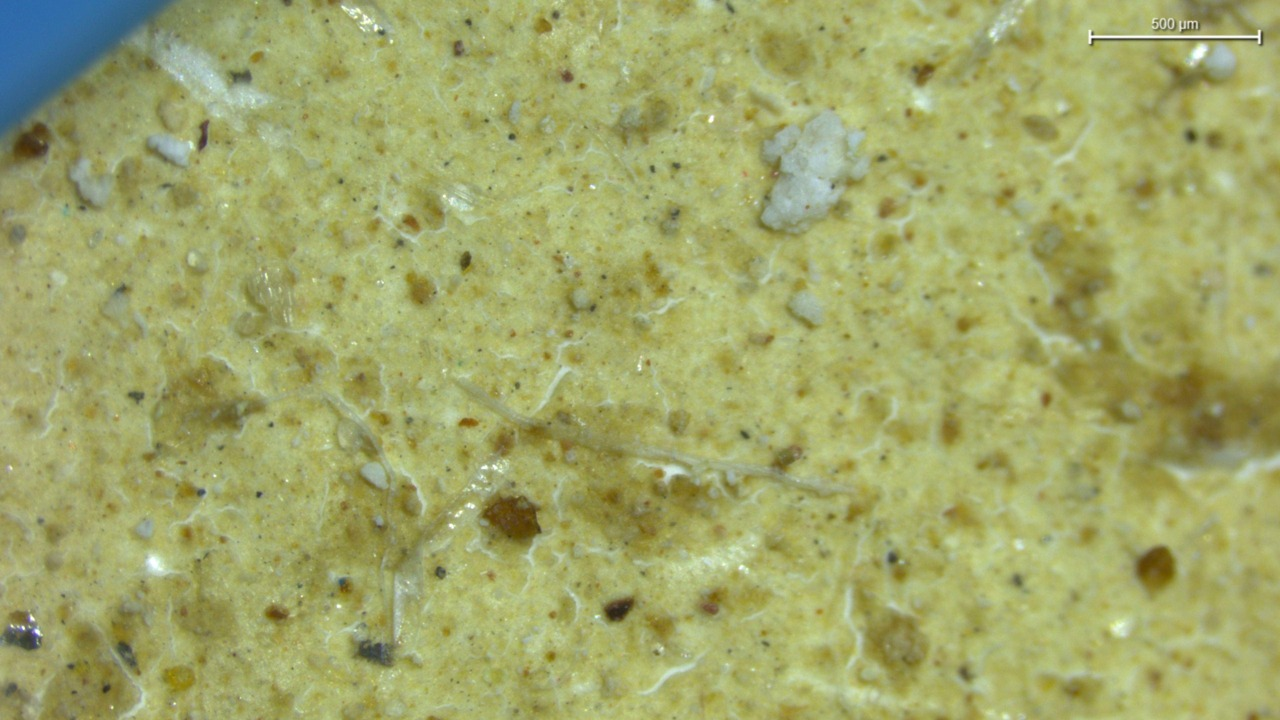microplastic_fragment: (761, 110, 864, 232), (147, 134, 193, 166), (789, 290, 824, 325)
